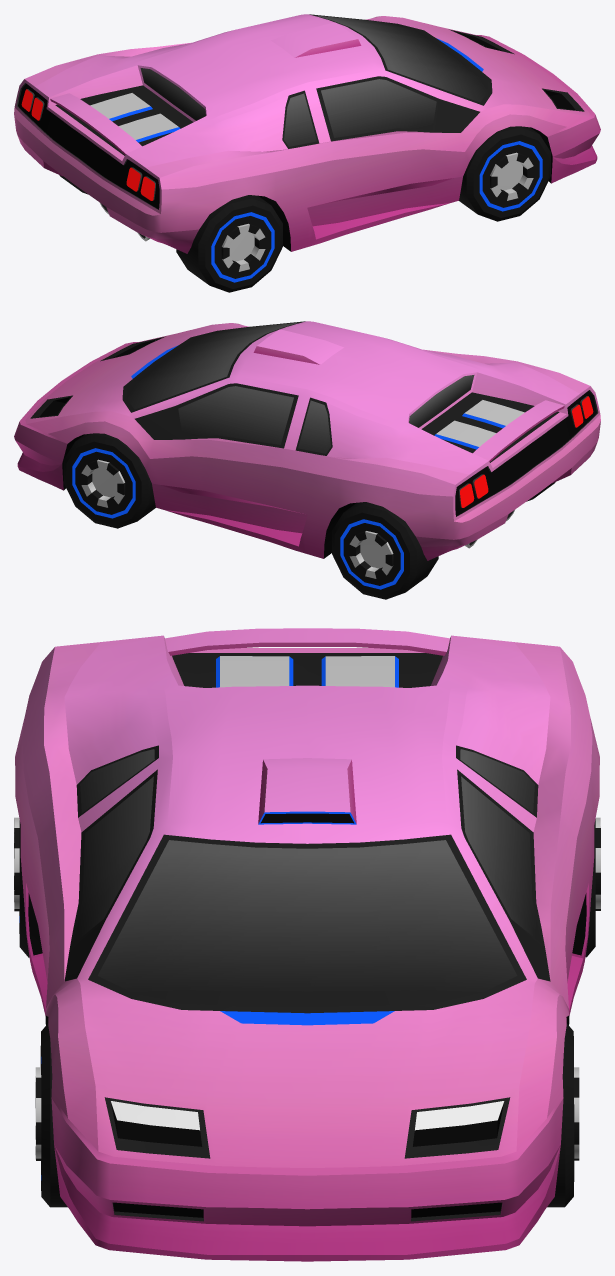
Rendered from Car_251.glb.
The picture shows the model from 3 angles, top to bottom: view 1: azimuth 30°, elevation 25°; view 2: azimuth 150°, elevation 25°; view 3: azimuth 270°, elevation 25°; orthographic projection. The views are drawn at different scales.
Visible parts, largest first — view 1: Car_251, wheel_3_Car_251_Wheel_2R, wheel_1_Car_251_Wheel_1R; view 2: Car_251, wheel_2_Car_251_Wheel_2L, wheel_0_Car_251_Wheel_1L; view 3: Car_251, wheel_1_Car_251_Wheel_1R, wheel_0_Car_251_Wheel_1L, wheel_3_Car_251_Wheel_2R, wheel_2_Car_251_Wheel_2L.
Boxes of the visible parts, x1,y1,x2,y2 form: Car_251: (14, 14, 600, 253); wheel_3_Car_251_Wheel_2R: (176, 195, 282, 292); wheel_1_Car_251_Wheel_1R: (459, 126, 550, 221); Car_251: (14, 321, 600, 560); wheel_2_Car_251_Wheel_2L: (332, 502, 438, 599); wheel_0_Car_251_Wheel_1L: (64, 433, 155, 528); Car_251: (15, 628, 599, 1261); wheel_1_Car_251_Wheel_1R: (35, 1023, 67, 1207); wheel_0_Car_251_Wheel_1L: (547, 1023, 579, 1207); wheel_3_Car_251_Wheel_2R: (14, 817, 29, 957); wheel_2_Car_251_Wheel_2L: (585, 817, 600, 957).
Size of the model in its own units: 3.62 by 1.15 by 2.03.
2 materials, 2 textured.
